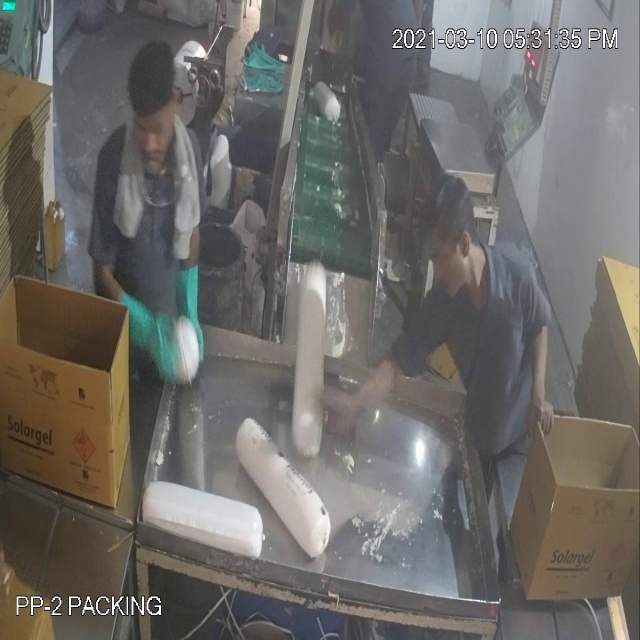Guantes: (168, 252, 209, 368)
Sin_guantes: (311, 332, 404, 447), (516, 302, 558, 444)
